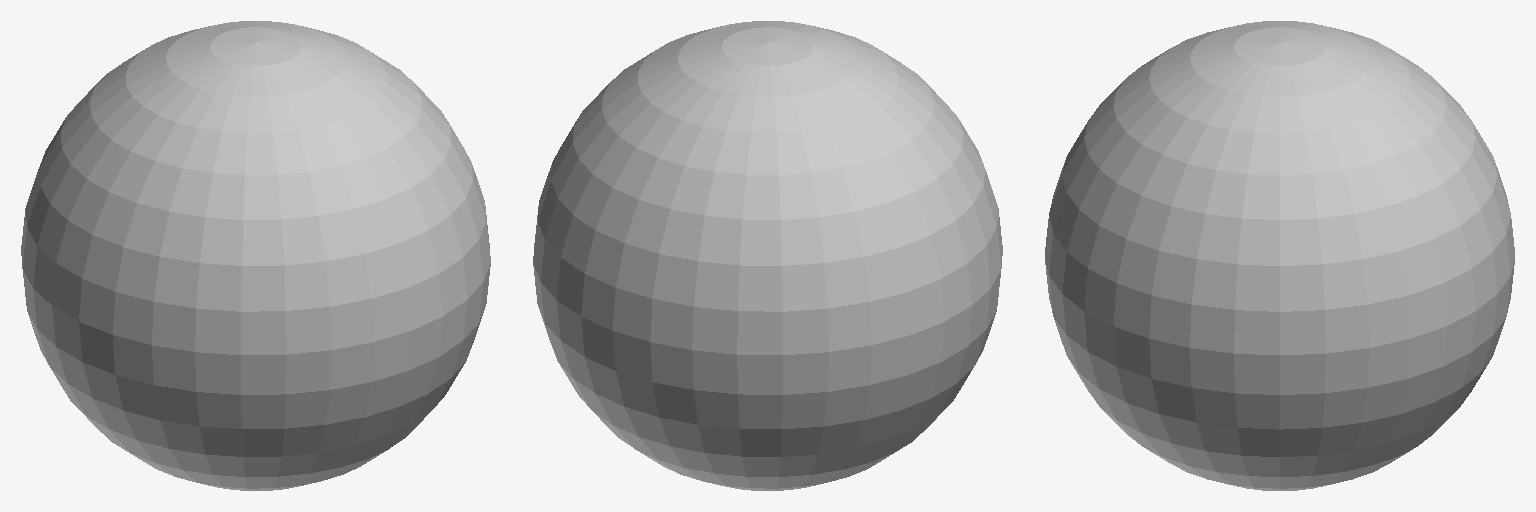
The model's file is FireBall.obj.
3 renders of one model, left to right at view 1: azimuth 30°, elevation 25°; view 2: azimuth 150°, elevation 25°; view 3: azimuth 270°, elevation 25°, orthographic.
Visible parts, largest first — view 1: Sphere.001; view 2: Sphere.001; view 3: Sphere.001.
Boxes of the visible parts, box(x1,y1,x2,y2) form: Sphere.001: box(21, 21, 490, 490); Sphere.001: box(533, 21, 1002, 490); Sphere.001: box(1045, 21, 1514, 490).
Bounding box in the file's own units: 0.2367 × 0.2367 × 0.2367.